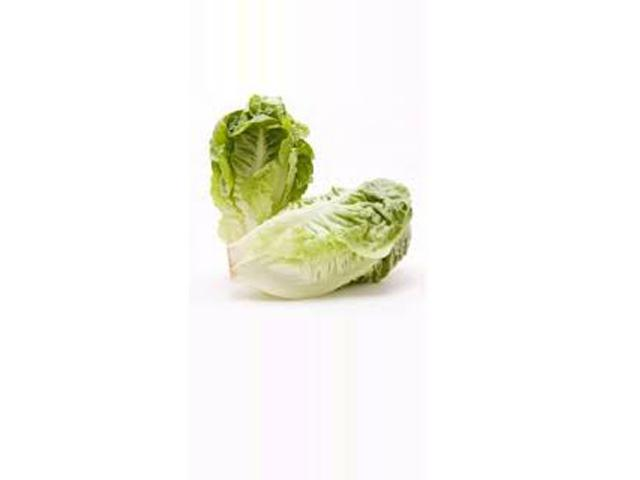lettuce: (213, 166, 423, 304)
